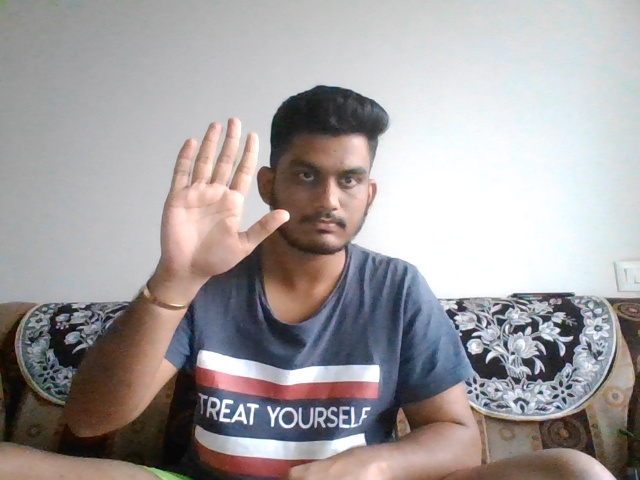Hello: (138, 116, 291, 286)
